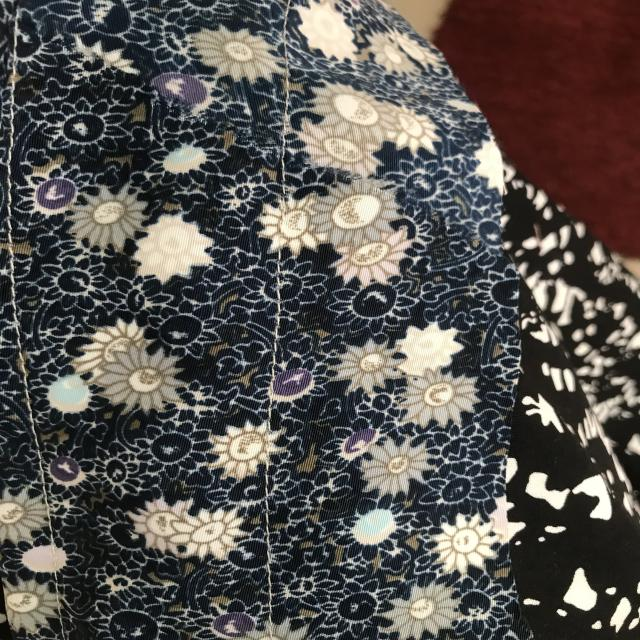good: (15, 390, 51, 478), (270, 259, 288, 378), (258, 472, 281, 541)
